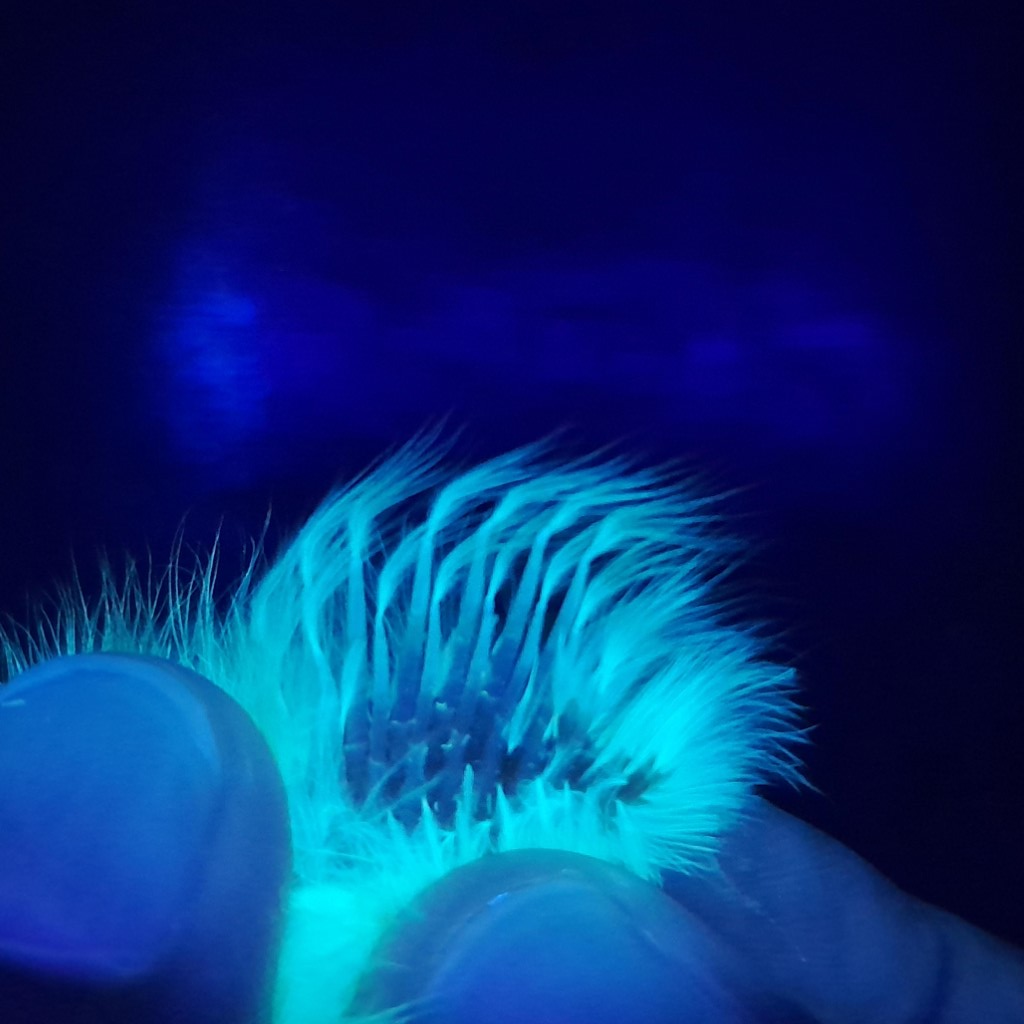female: (341, 520, 655, 856)
